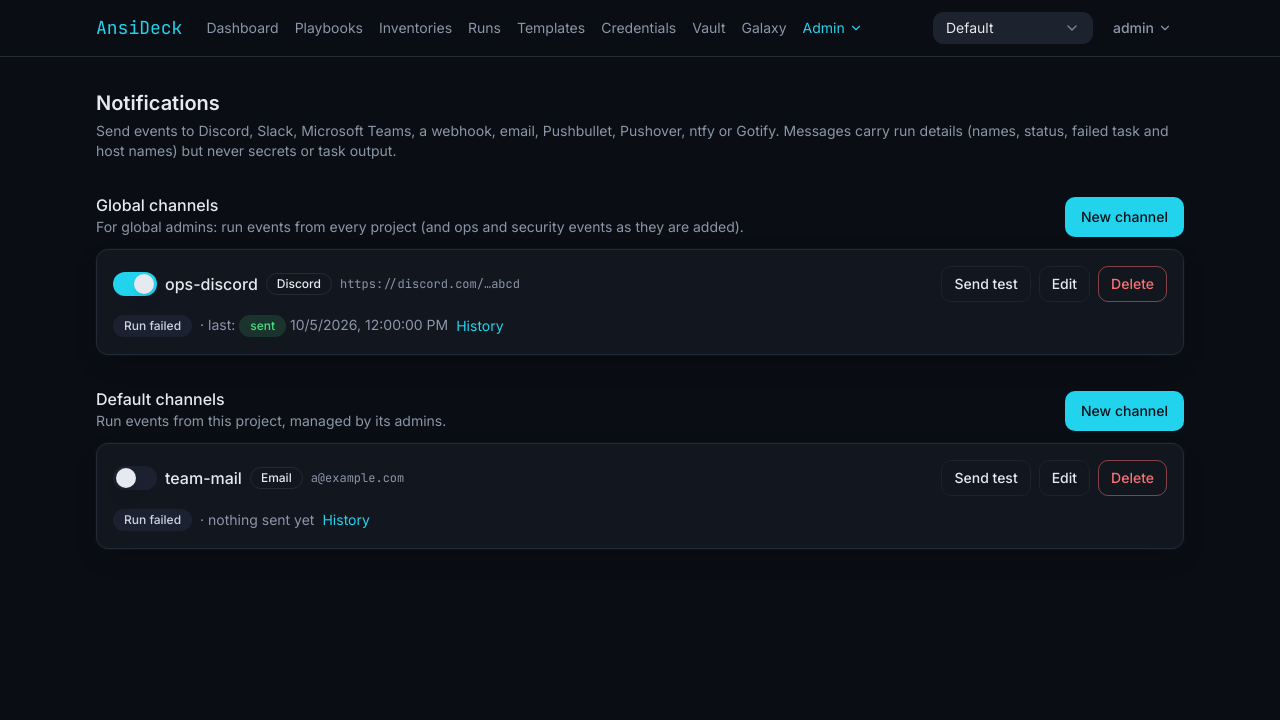
Test: notifications › shows global and project channels with their last delivery and history
Expected: the text "ops-discord" is shown, [165,272,258,296]
Expected: the text "Run failed" next to "· last:" is shown, [124,318,181,333]
Click the button "History" next to "10/5/2026, 12:00:00 PM": (480, 326) [456,314,504,338]
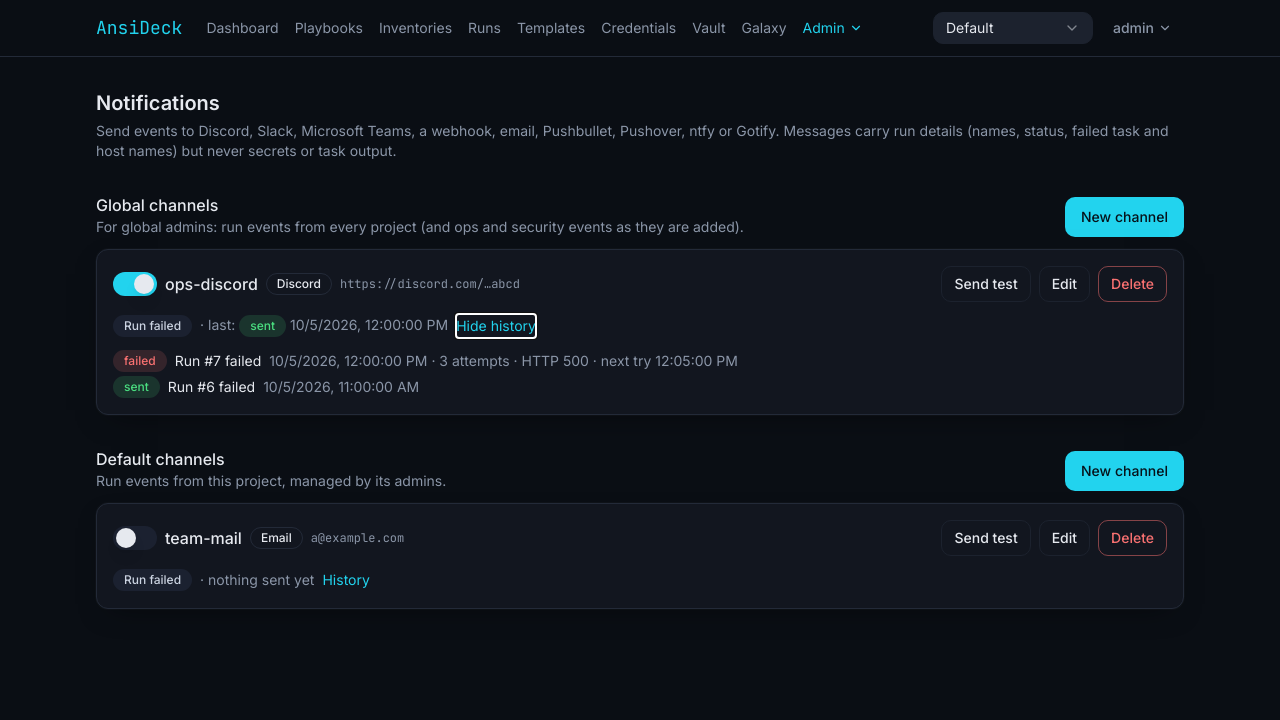
Expected: the text "Run #7 failed" is shown, [175,351,261,371]
Expected: the text "3 attempts · HTTP 500 · next try" is shown, [269,351,738,371]
Click the button "Hide history": (496, 326) [456,314,536,338]
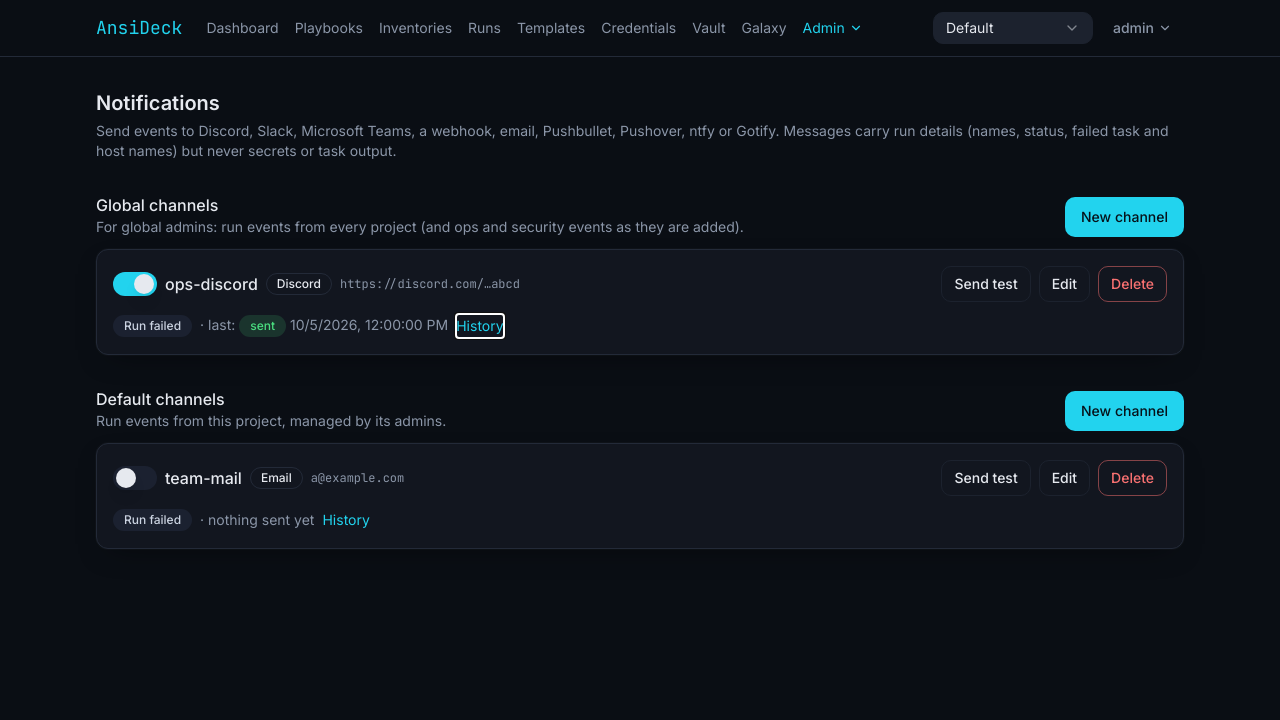
Expected: the text "Run #7 failed" is gone
